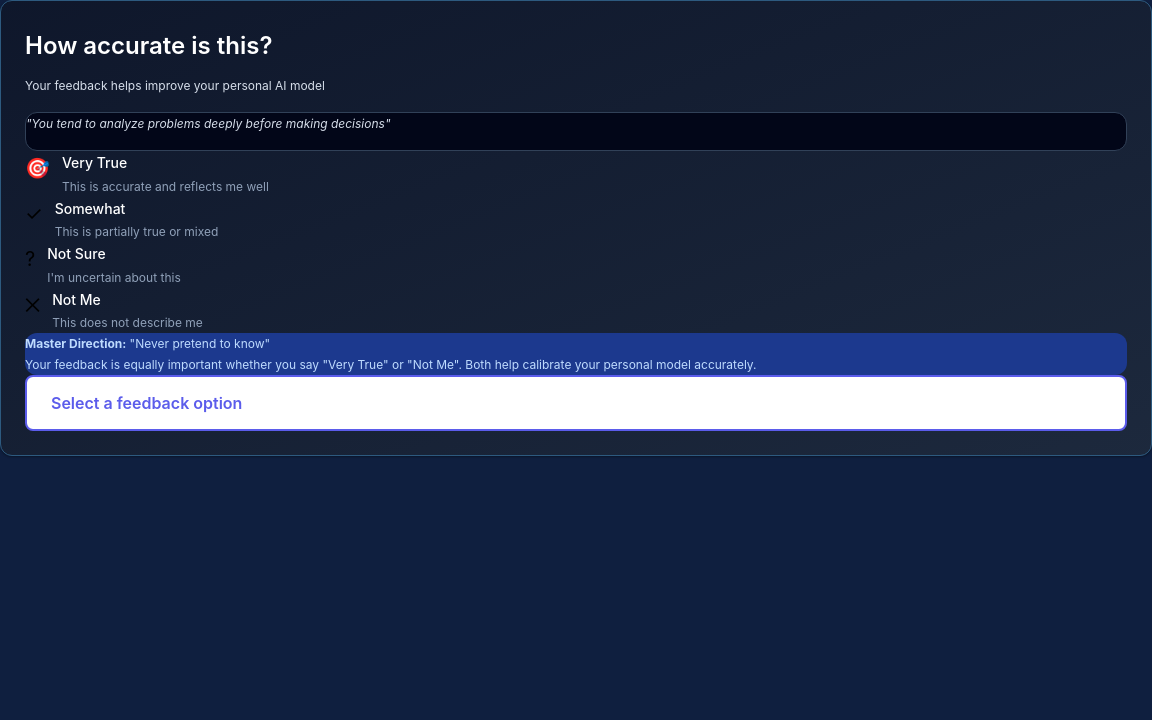
FeedbackWidget Integration Tests › Integration: Component → AIFeedbackLoop → Supabase › should record feedback end-to-end with real AIFeedbackLoop
expect the text "You tend to analyze problems deeply before making decisions" is shown: met, box [32, 116, 385, 131]
Note: Select "Very True" feedback
Click the button "🎯 Very True This is accurate and reflects me well" at (95, 162), box [25, 151, 1127, 196]
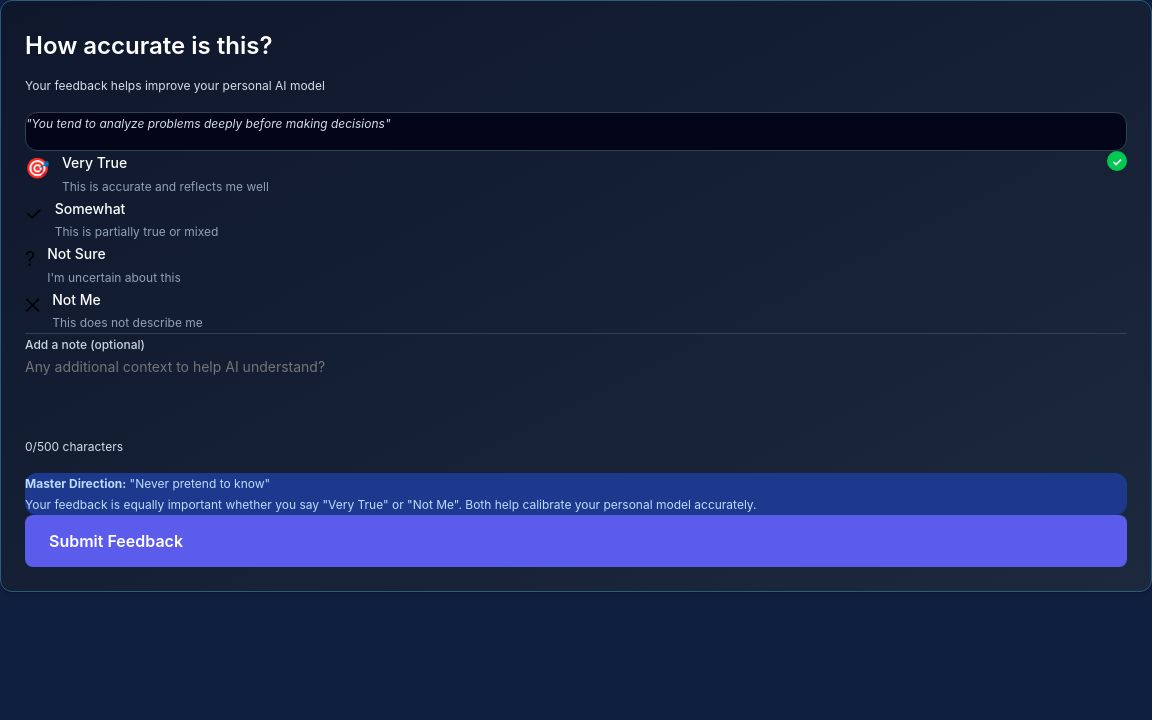
Note: Add optional comment
Type "Yes, I definitely do this" into the text box with placeholder "Any additional context to help AI understand?" at (576, 392), box [25, 355, 1127, 428]
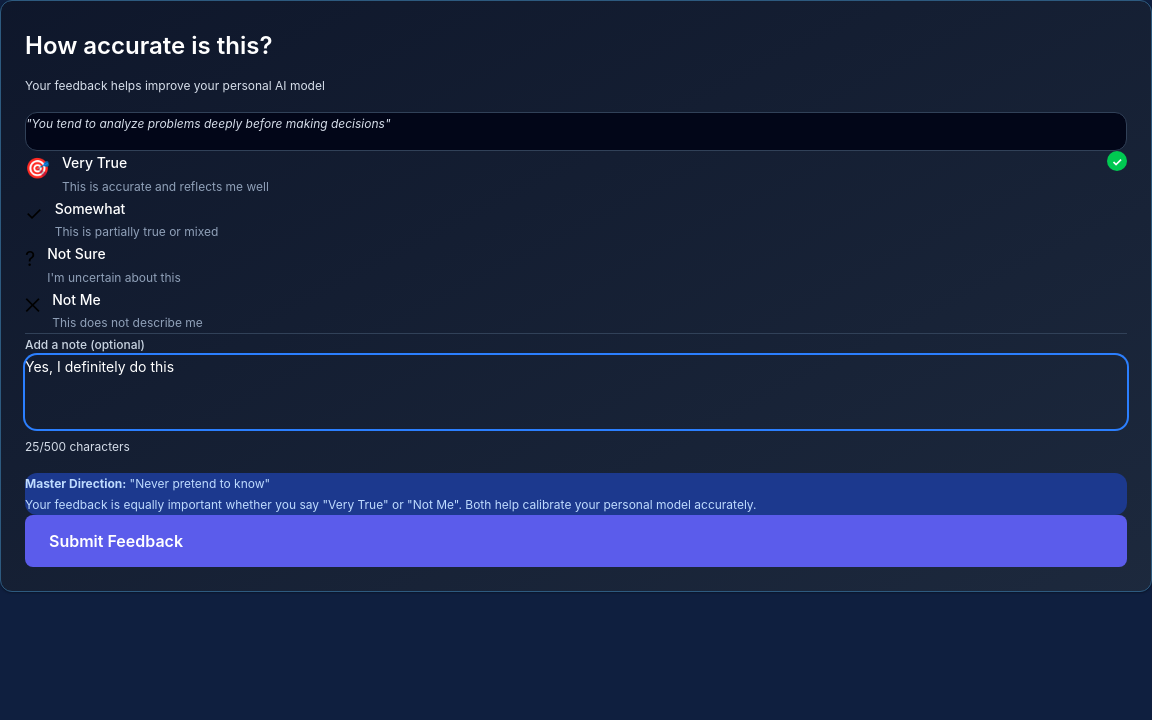
Note: Submit feedback
Click the button "Submit Feedback" at (116, 541), box [25, 515, 1127, 567]
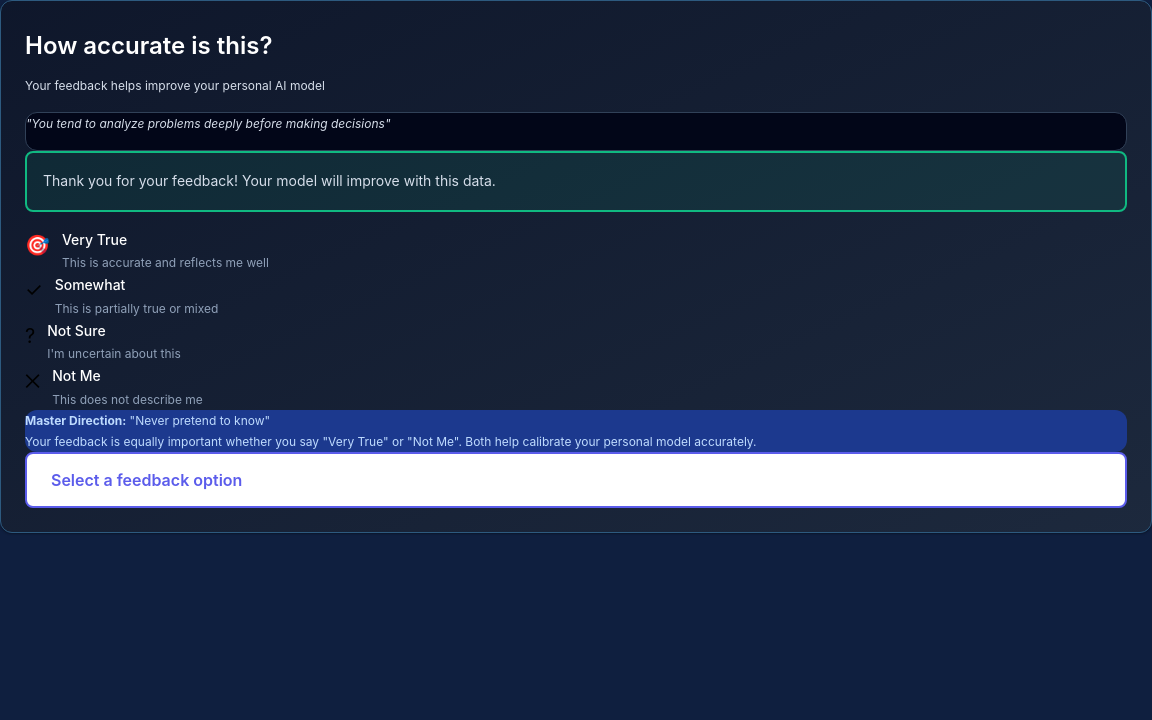
expect the text "Thank you for your feedback" is shown: met, box [43, 172, 496, 189]
